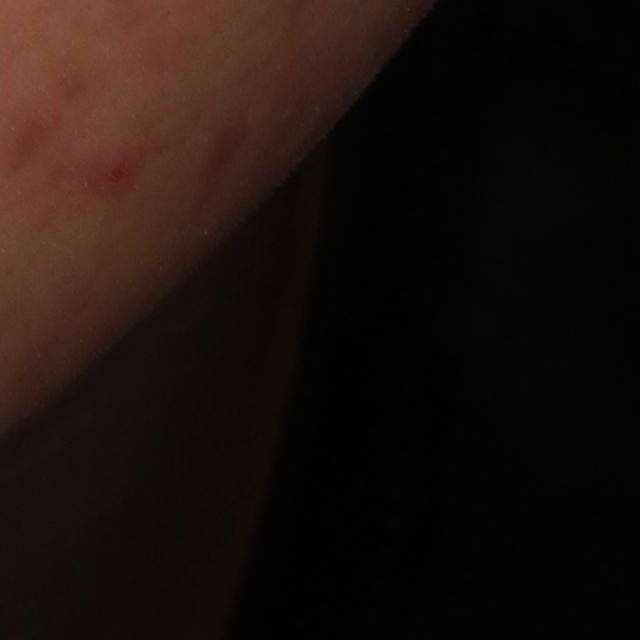papule: (90, 154, 134, 195)
